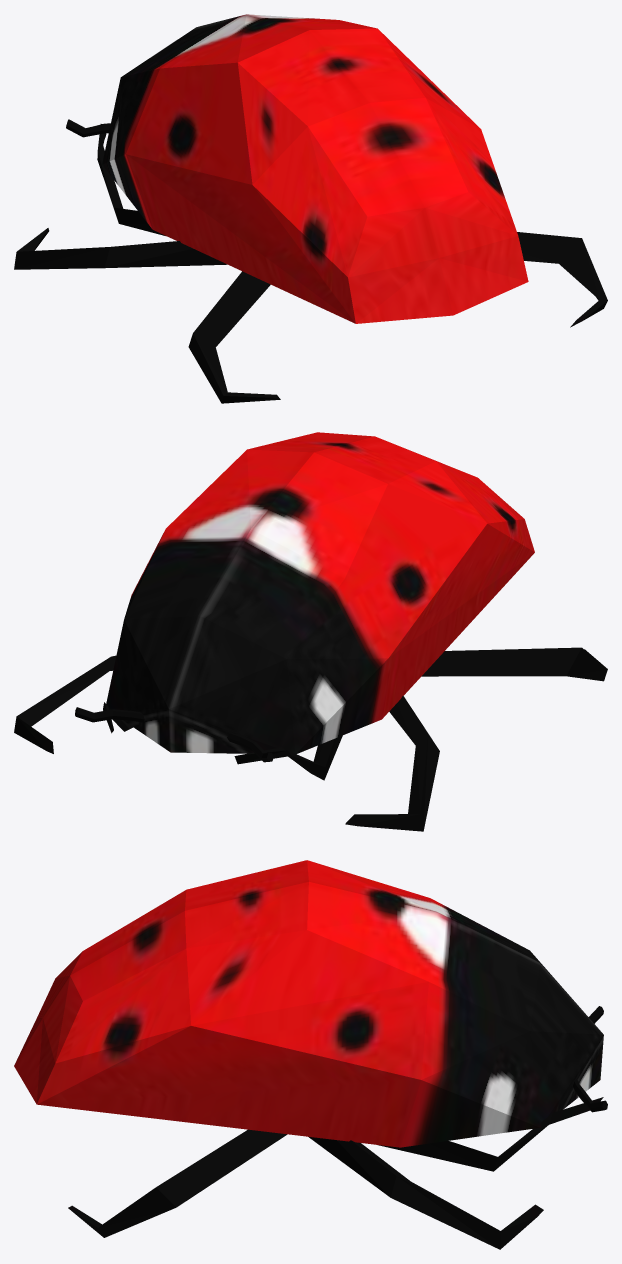
The model's file is ladybug.glb.
3 views of the same model, one above another, from view 1: azimuth 30°, elevation 25°; view 2: azimuth 150°, elevation 25°; view 3: azimuth 270°, elevation 25° (orthographic). The views are drawn at different scales.
Parts seen in each view (by area): view 1: ZtoY, legs4; view 2: ZtoY, legs4; view 3: ZtoY, legs4.
Part boxes in pixels (<box>): ZtoY: <box>66,14,528,323</box>; legs4: <box>14,124,607,403</box>; ZtoY: <box>75,432,534,762</box>; legs4: <box>14,647,607,831</box>; ZtoY: <box>14,860,607,1147</box>; legs4: <box>68,1097,603,1249</box>.
Bounding box in the file's own units: 4.43 × 2.71 × 5.48.
Materials: 1 (1 with a texture image).
